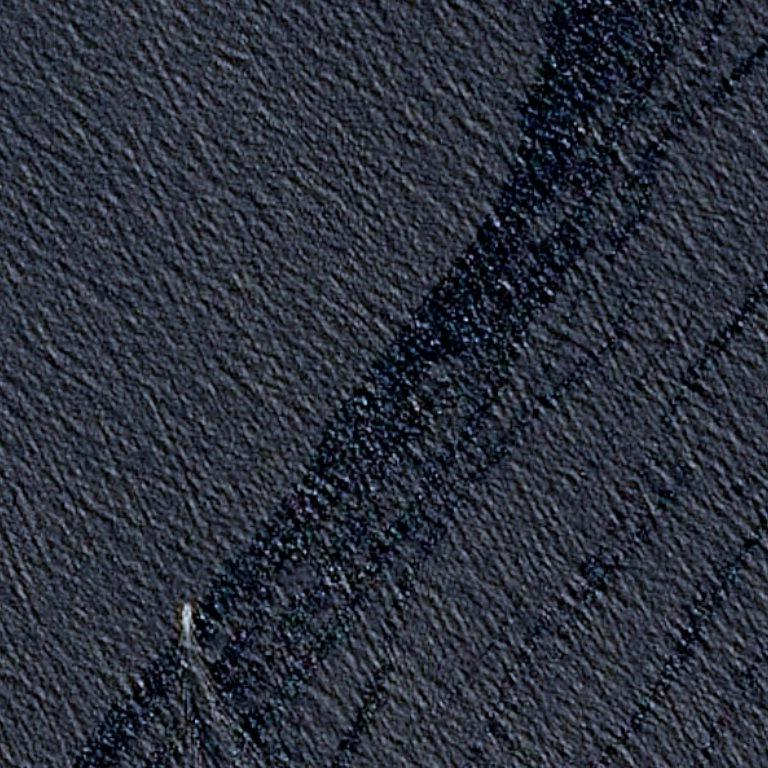ship: (178, 600, 194, 635), (186, 602, 188, 604), (190, 627, 192, 629), (27, 628, 28, 629)
